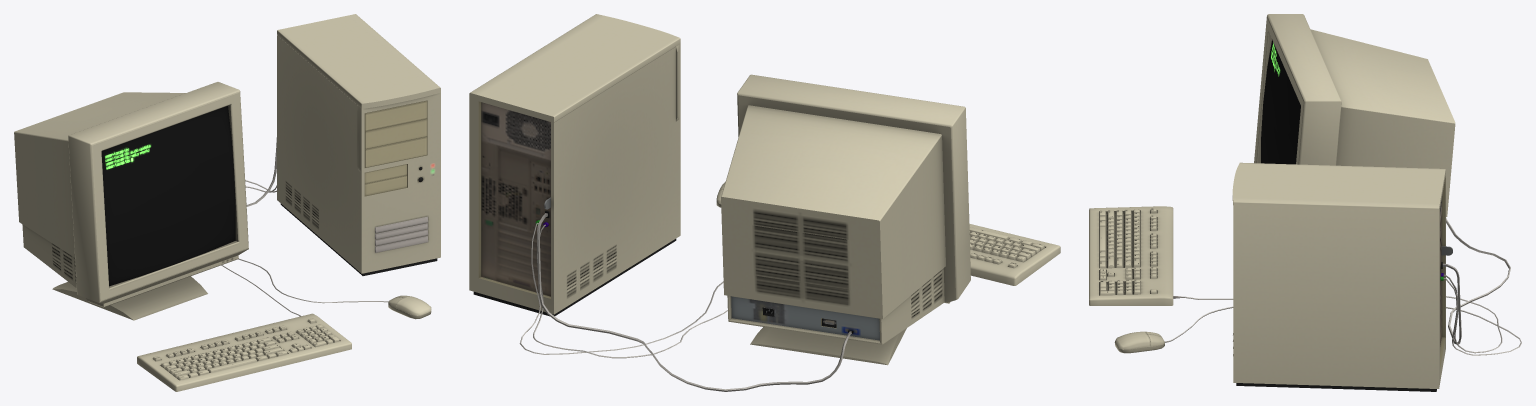
File: RetroPC.glb
The picture shows the model from 3 angles, left to right: view 1: azimuth 30°, elevation 25°; view 2: azimuth 150°, elevation 25°; view 3: azimuth 270°, elevation 25°; orthographic projection. The views are drawn at different scales.
Parts seen in each view (by area): view 1: retro_computer_setup; view 2: retro_computer_setup; view 3: retro_computer_setup.
Part boxes in pixels (bbox=[...]): retro_computer_setup: bbox=[14, 14, 440, 391]; retro_computer_setup: bbox=[469, 14, 1060, 391]; retro_computer_setup: bbox=[1089, 14, 1521, 391].
Size of the model in its own units: 96.81 by 49.28 by 96.94.
Materials: 1 (1 with a texture image).
